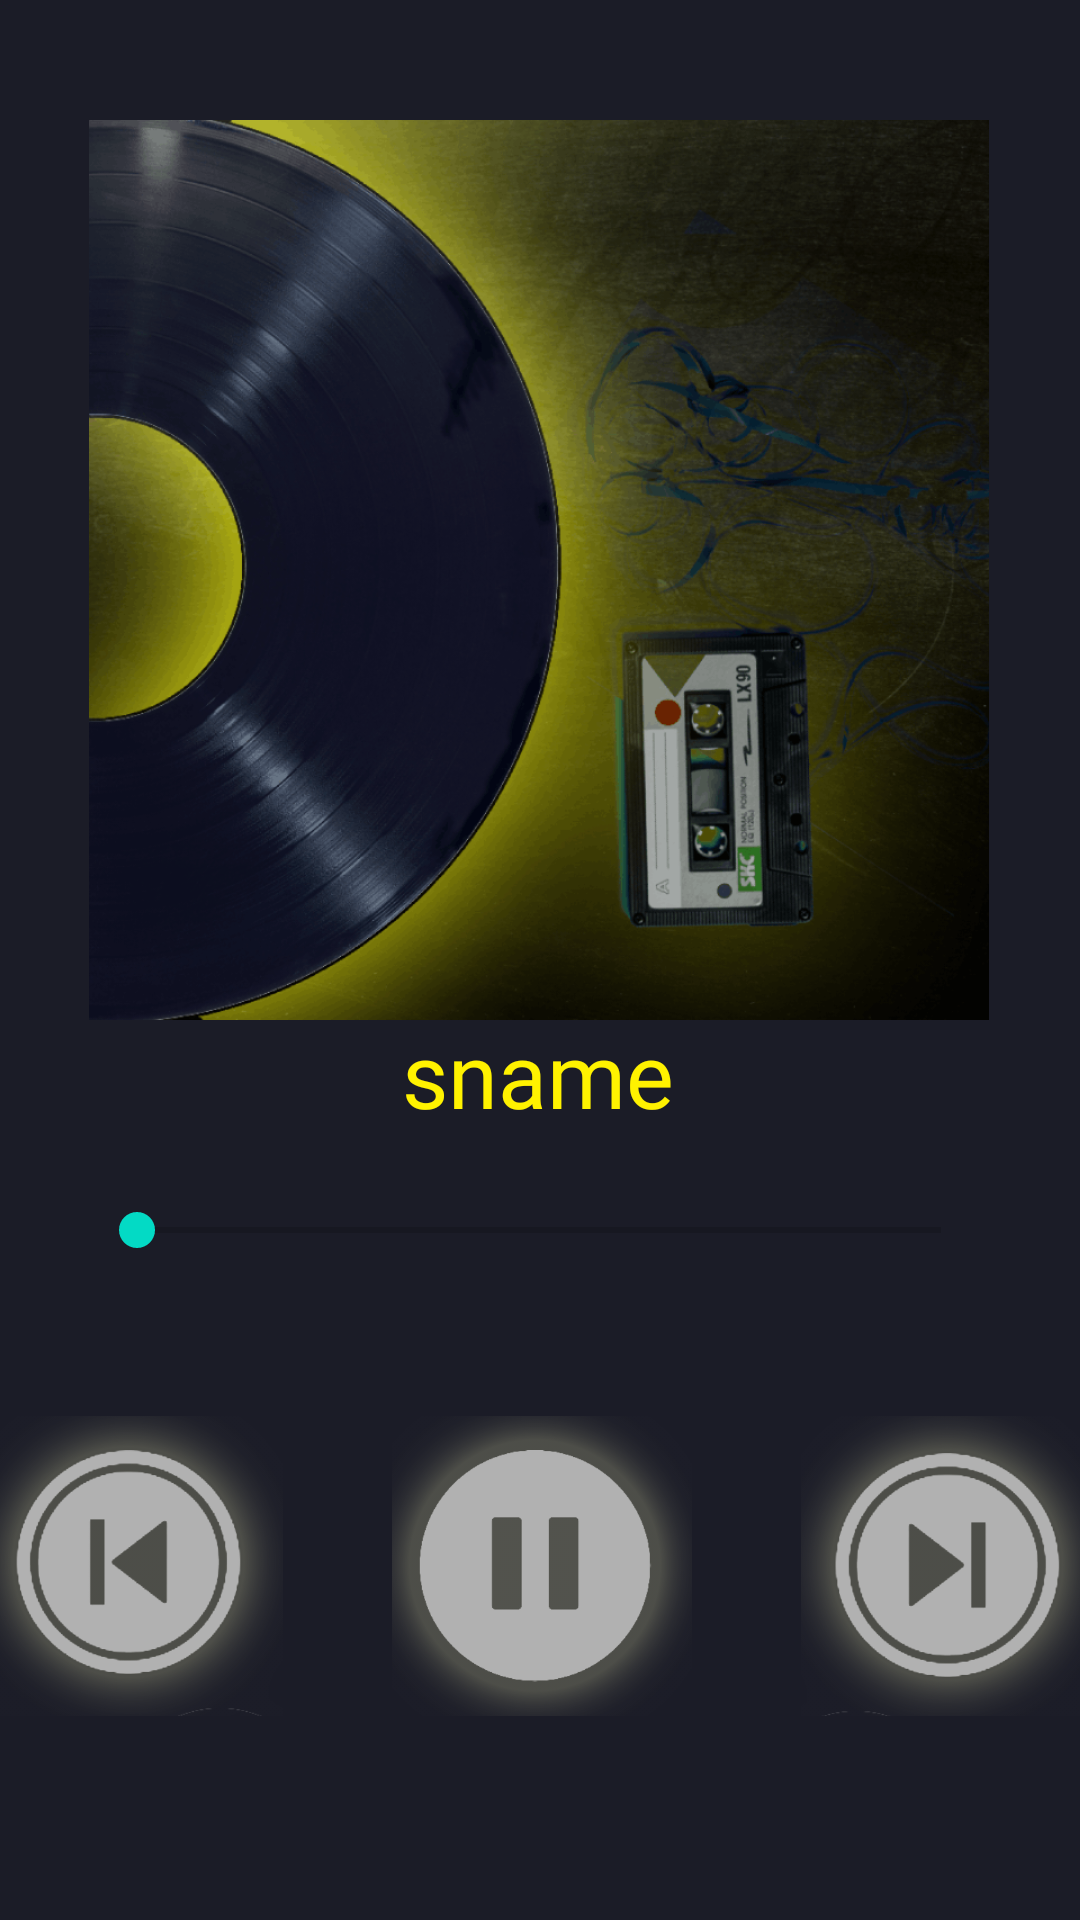

Screen size 1080 x 1920. Icon name, then its box in pixels as (x1, y1, x2, y2):
pause: (394, 1425, 675, 1706)
